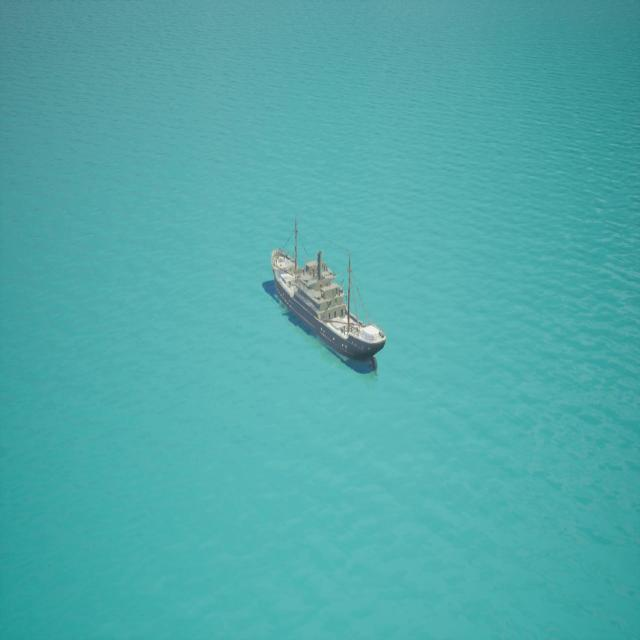fishing ship: (266, 220, 386, 373)
